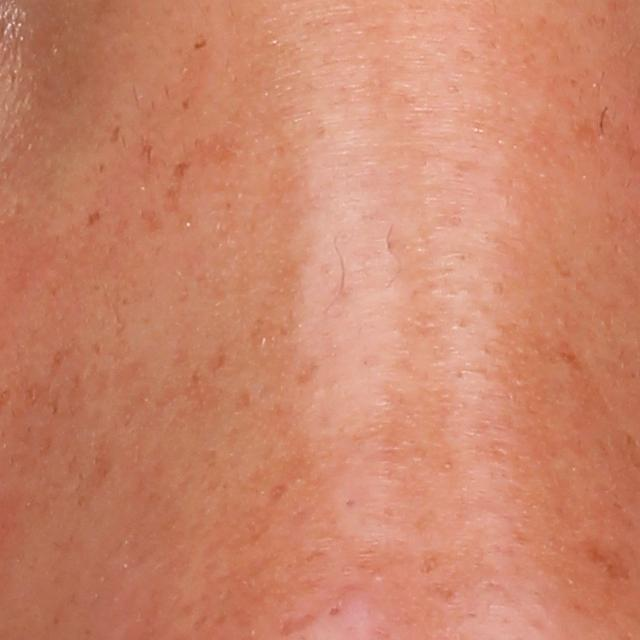melasma: (24, 342, 86, 410), (580, 533, 638, 586), (163, 159, 190, 219), (138, 206, 167, 238), (82, 205, 104, 230), (107, 123, 120, 146), (188, 37, 209, 51), (179, 95, 191, 112)
